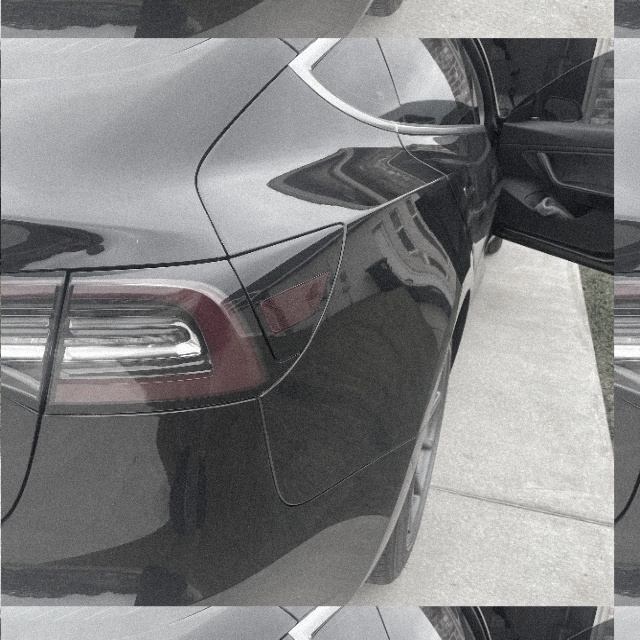reflector: (260, 269, 330, 333)
